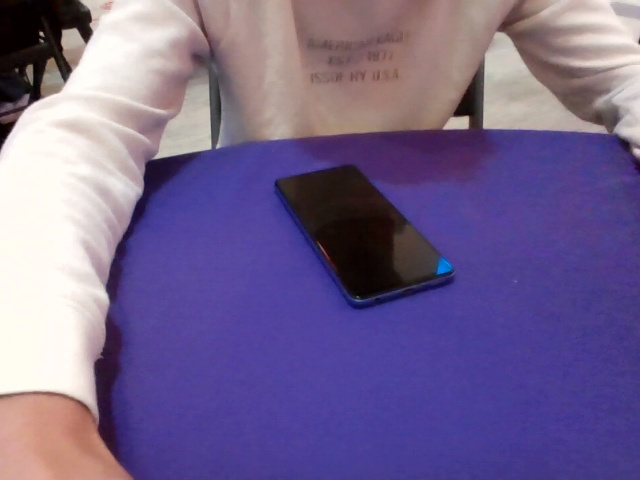celular: (272, 164, 453, 308)
